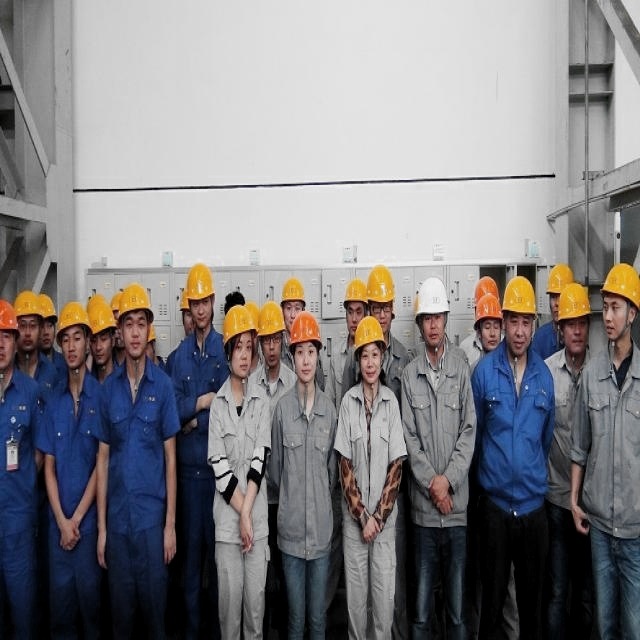Con_Casco: (120, 285, 152, 358), (355, 317, 387, 387), (290, 318, 322, 382)
Sin_Chaleco: (483, 346, 550, 518), (210, 380, 270, 531)
